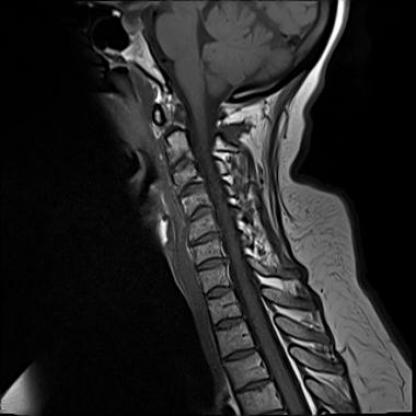Disc Bulgerotation: (188, 230, 226, 246), (185, 205, 215, 222), (194, 257, 230, 271), (177, 182, 206, 198)
Disc Protrusionrotation: (194, 257, 229, 271)
Osteophytesrotation: (188, 230, 225, 246), (185, 204, 215, 222), (176, 182, 206, 198)
